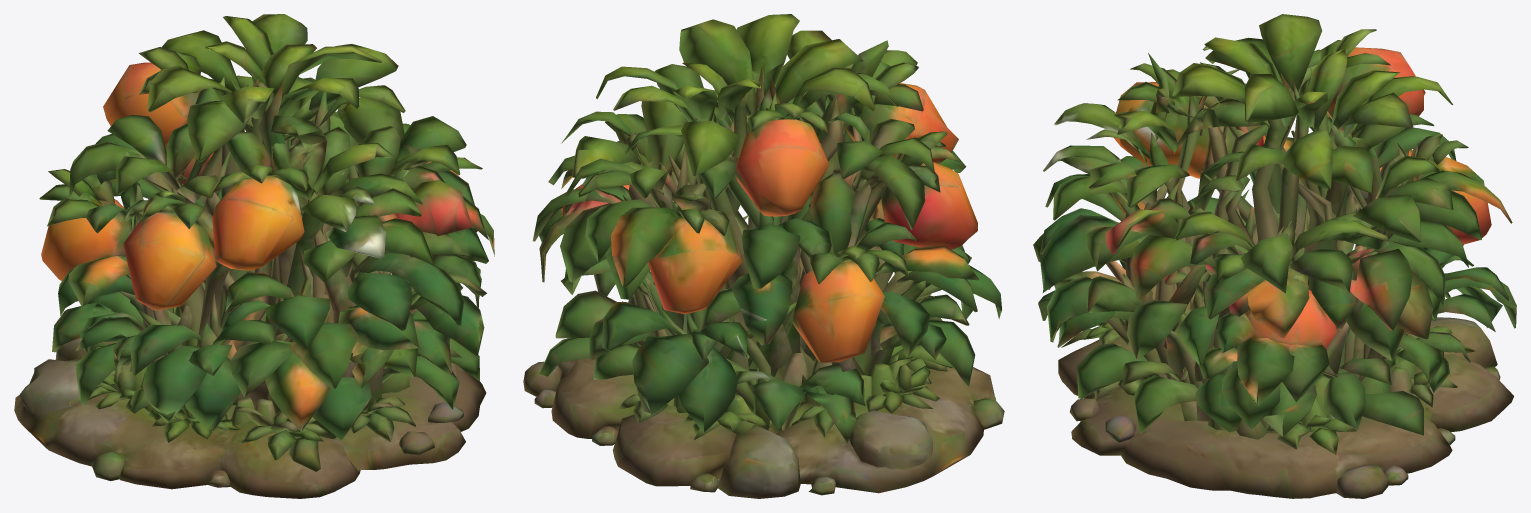
The model's file is node_fruit_bush.glb.
3 views of the same model, side by side, from view 1: azimuth 30°, elevation 25°; view 2: azimuth 150°, elevation 25°; view 3: azimuth 270°, elevation 25° (orthographic).
Bounding box in the file's own units: 0.2803 × 0.2178 × 0.272.
1 material, 1 textured.
